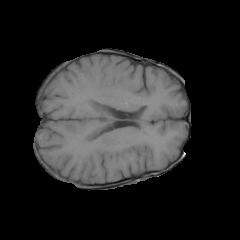glioma: (67, 128, 98, 155)
